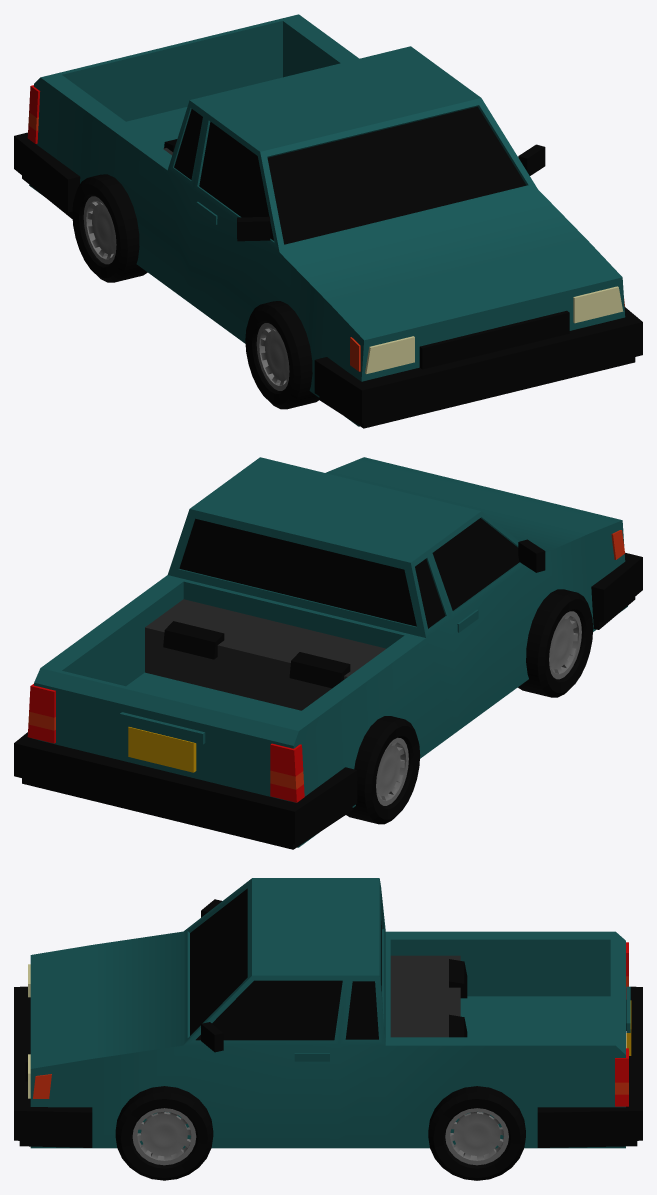
The model's file is Car3.fbx.
3 renders of one model, top to bottom at view 1: azimuth 30°, elevation 25°; view 2: azimuth 150°, elevation 25°; view 3: azimuth 270°, elevation 25°, orthographic. The views are drawn at different scales.
Parts seen in each view (by area): view 1: body, RearWheels, Right_FrontWheel; view 2: body, Right_FrontWheel, RearWheels; view 3: body, RearWheels, Left_FrontWheel.
Boxes of the visible parts, <box> form: body: <box>14,14,642,428</box>; RearWheels: <box>72,174,147,282</box>; Right_FrontWheel: <box>245,301,319,409</box>; body: <box>14,457,642,849</box>; Right_FrontWheel: <box>518,589,593,697</box>; RearWheels: <box>346,716,420,824</box>; body: <box>14,878,642,1148</box>; RearWheels: <box>428,1086,525,1180</box>; Left_FrontWheel: <box>115,1086,213,1180</box>.
Bounding box in the file's own units: 229 × 149 × 449.
